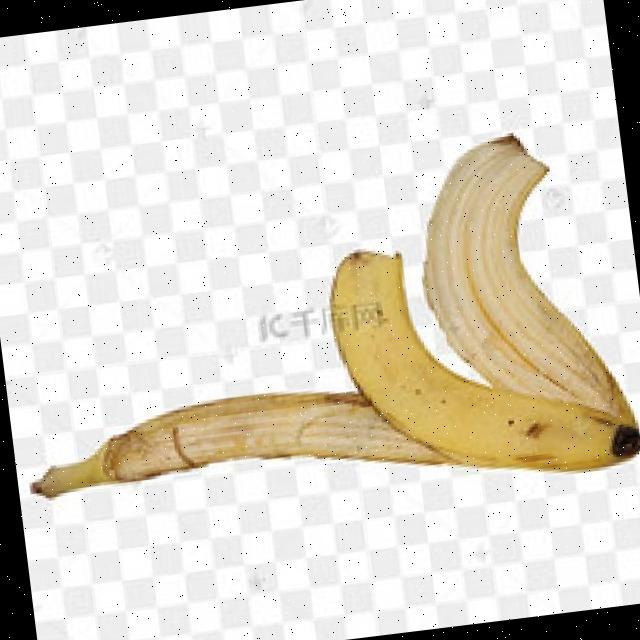banana-peel: (0, 118, 640, 537), (320, 215, 640, 498), (403, 119, 640, 461)
